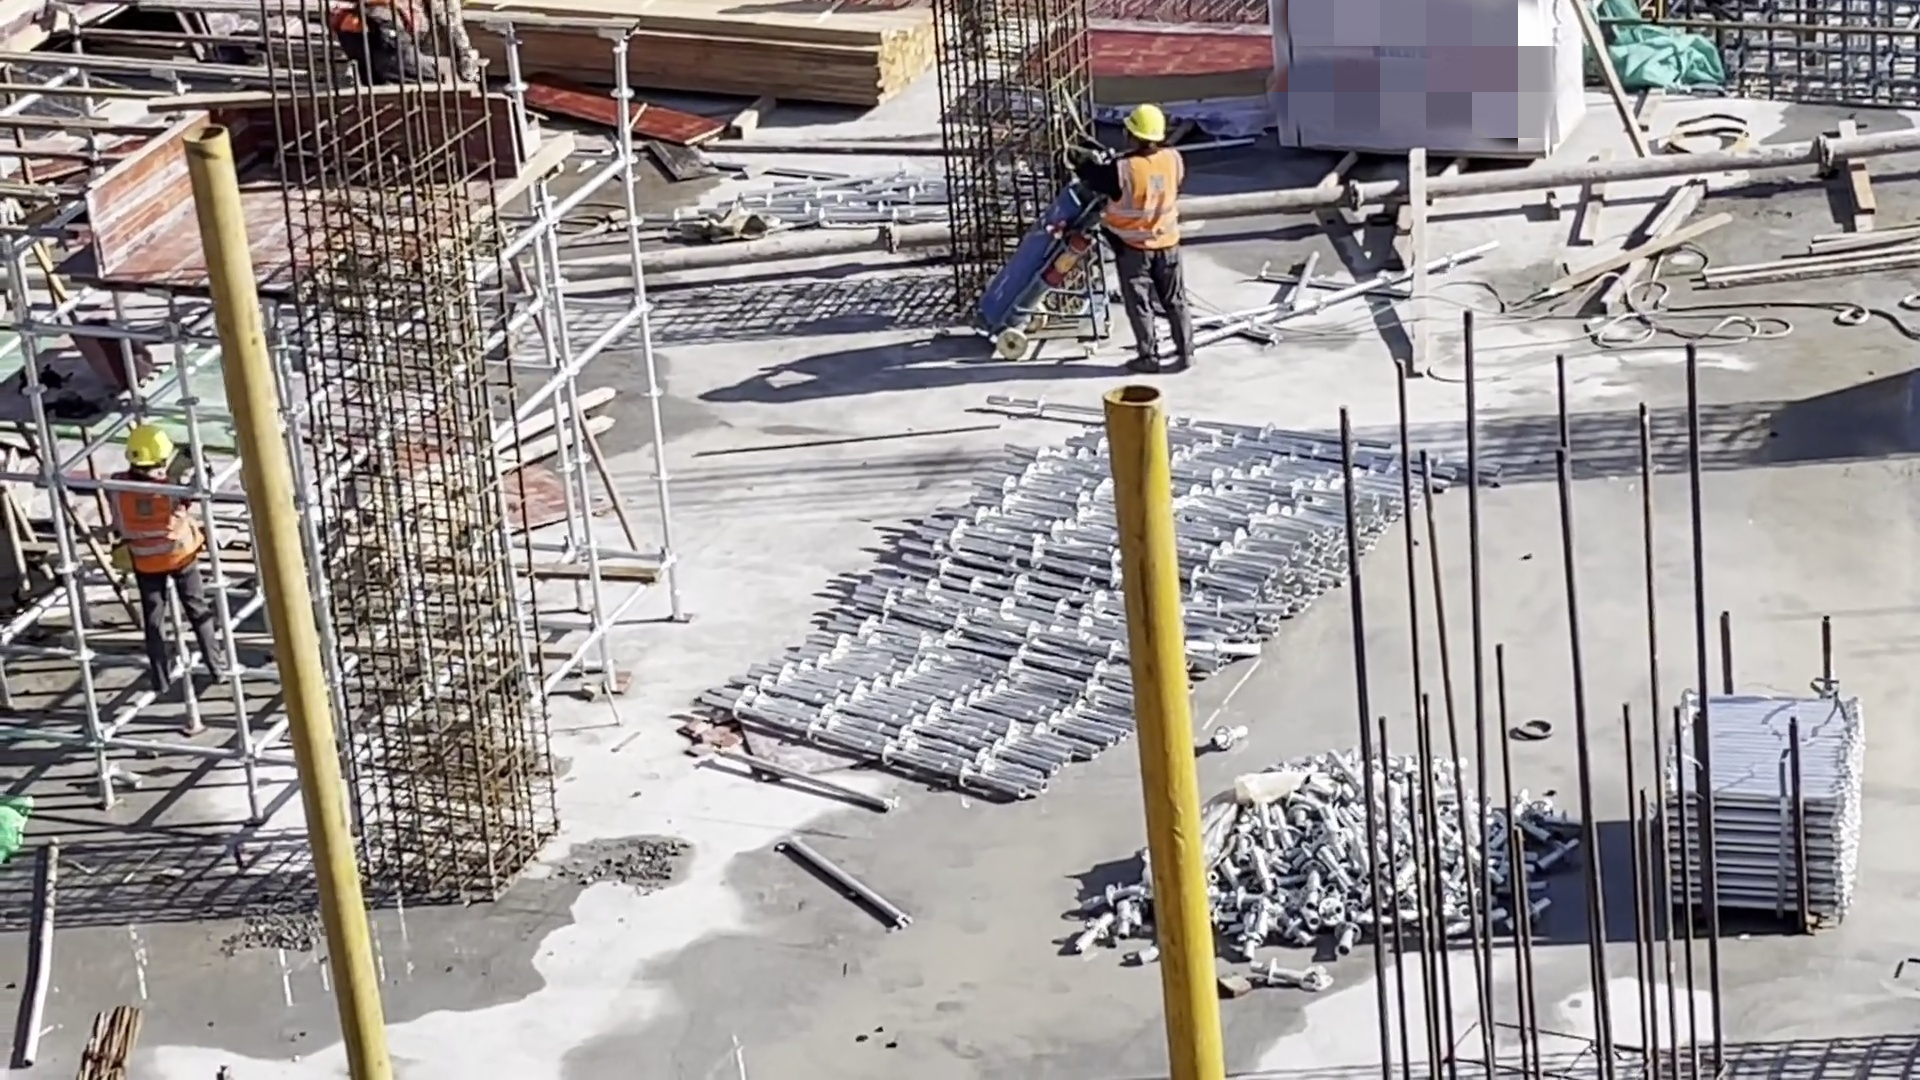helmet: (124, 430, 174, 468), (1120, 109, 1167, 140)
person: (111, 426, 241, 683), (1089, 111, 1217, 372), (332, 1, 477, 83)
scaffold: (695, 408, 1457, 811), (1663, 682, 1861, 924)
vest: (114, 471, 200, 576), (1104, 147, 1183, 251), (341, 2, 431, 47)
wood: (485, 2, 939, 112)
